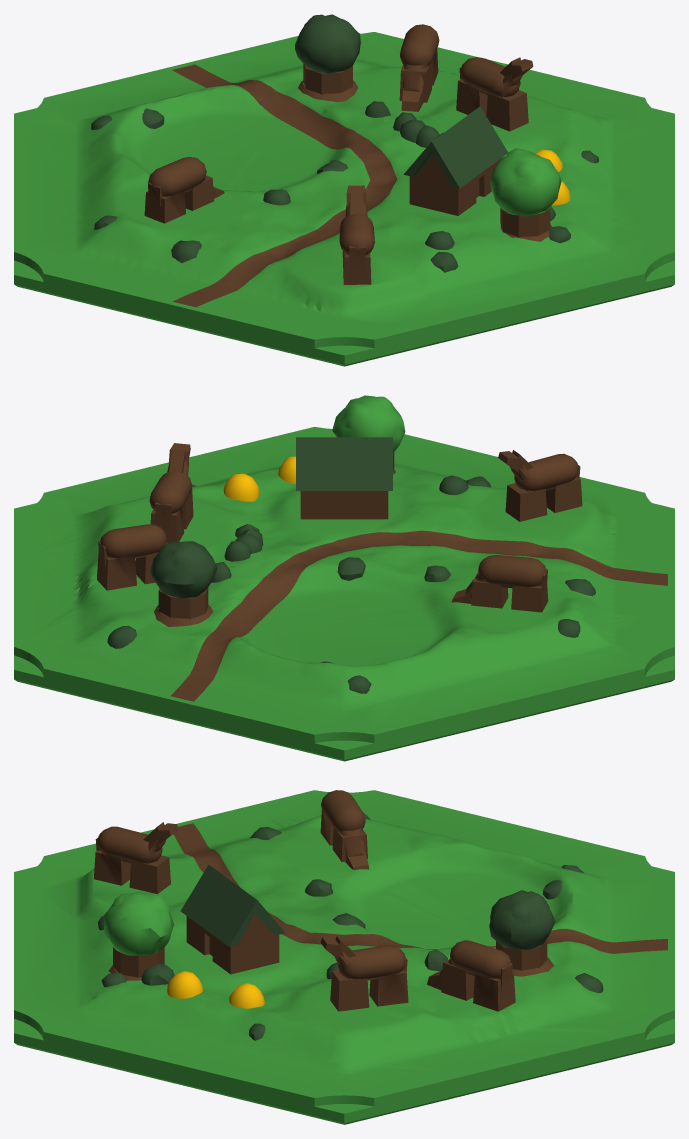
Rendered from weide_4.glb.
3 views of the same model, one above another, from view 1: azimuth 30°, elevation 25°; view 2: azimuth 150°, elevation 25°; view 3: azimuth 270°, elevation 25° (orthographic).
Parts seen in each view (by area): view 1: weide_4; view 2: weide_4; view 3: weide_4.
Boxes of the visible parts, x1=… form: weide_4: x1=14, y1=14, x2=674, y2=366; weide_4: x1=14, y1=395, x2=674, y2=761; weide_4: x1=14, y1=790, x2=674, y2=1124.
Bounding box in the file's own units: 65.24 × 10.4 × 56.5.
